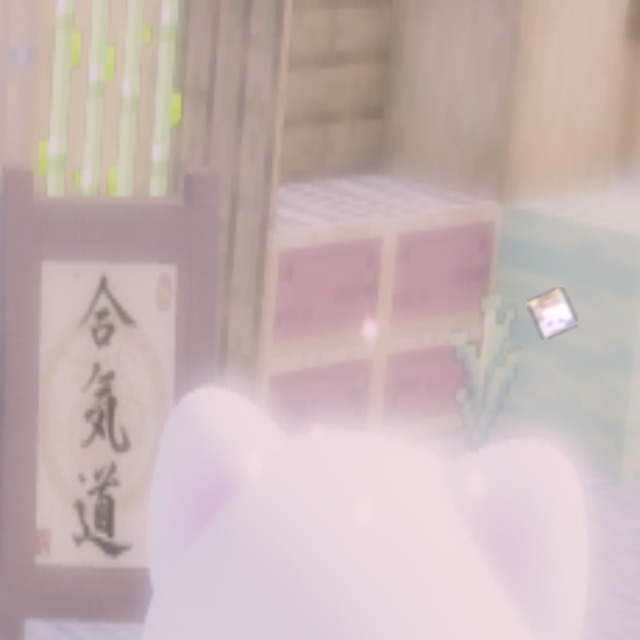urso_branco: (527, 287, 578, 340)
